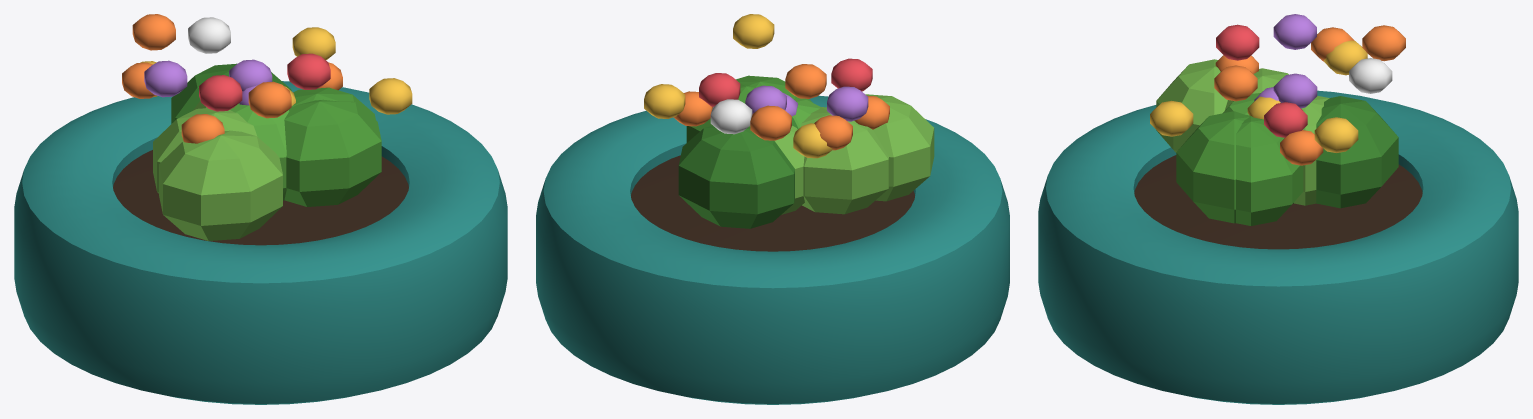
File: tyre_planter_teal.fbx
3 renders of one model, left to right at view 1: azimuth 30°, elevation 25°; view 2: azimuth 150°, elevation 25°; view 3: azimuth 270°, elevation 25°, orthographic. The views are drawn at different scales.
Visible parts, largest first — view 1: tyre_planter_teal; view 2: tyre_planter_teal; view 3: tyre_planter_teal.
Part boxes in pixels (x1,y1,x2,y2): tyre_planter_teal: (14, 14, 507, 404); tyre_planter_teal: (536, 14, 1009, 404); tyre_planter_teal: (1038, 14, 1518, 404).
Bounding box in the file's own units: 0.63 × 0.3806 × 0.63.
